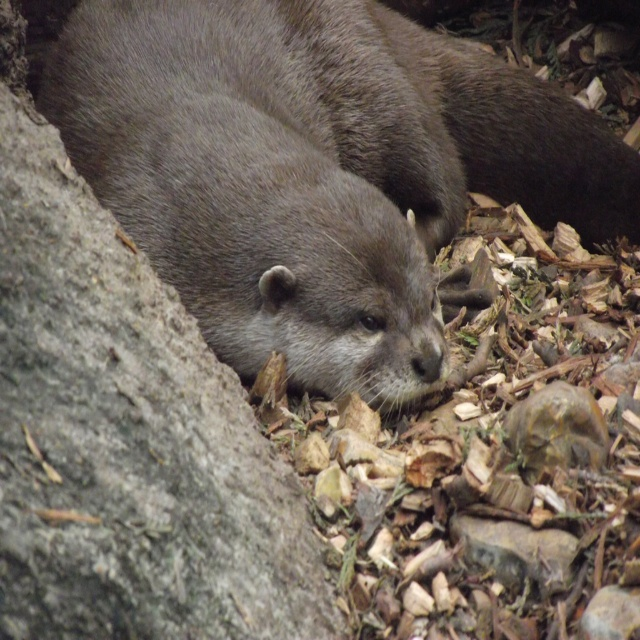Otter: (35, 0, 640, 428)
